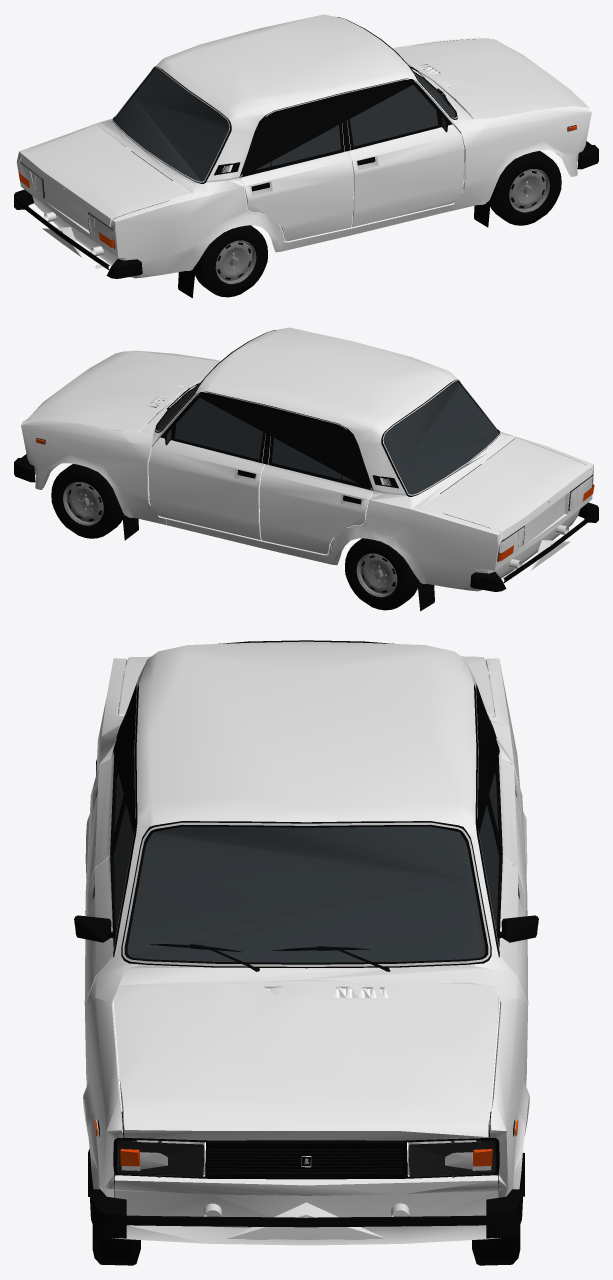
The model's file is vaz2105.obj.
The picture shows the model from 3 angles, top to bottom: view 1: azimuth 30°, elevation 25°; view 2: azimuth 150°, elevation 25°; view 3: azimuth 270°, elevation 25°; orthographic projection. The views are drawn at different scales.
Visible parts, largest first — view 1: vaz2105_05paintPaint, vaz2105_winglassGlass, vaz2105_jigrubber, vaz2105_wheeltire, vaz2105_jigplastic, vaz2105_wheelrim, vaz2105_jigchrome, vaz2105_hlchrome, vaz2105_jigmetallic; view 2: vaz2105_05paintPaint, vaz2105_winglassGlass, vaz2105_jigrubber, vaz2105_wheeltire, vaz2105_jigplastic, vaz2105_wheelrim, vaz2105_jigchrome, vaz2105_hlchrome, vaz2105_jigmetallic; view 3: vaz2105_05paintPaint, vaz2105_winglassGlass, vaz2105_jigplastic, vaz2105_jigrubber, vaz2105_hlplastic, vaz2105_jigchrome, vaz2105_wheeltire, vaz2105_jigmetallic, vaz2105_hlchrome.
Part boxes in pixels (left/top/right/bottom): vaz2105_05paintPaint: left=16, top=14, right=591, bottom=278; vaz2105_winglassGlass: left=114, top=68, right=455, bottom=181; vaz2105_jigrubber: left=112, top=17, right=490, bottom=298; vaz2105_wheeltire: left=114, top=87, right=561, bottom=297; vaz2105_jigplastic: left=14, top=66, right=598, bottom=278; vaz2105_wheelrim: left=215, top=169, right=549, bottom=284; vaz2105_jigchrome: left=63, top=66, right=457, bottom=196; vaz2105_hlchrome: left=20, top=163, right=114, bottom=242; vaz2105_jigmetallic: left=42, top=212, right=111, bottom=268; vaz2105_05paintPaint: left=21, top=327, right=593, bottom=591; vaz2105_winglassGlass: left=157, top=381, right=498, bottom=494; vaz2105_jigrubber: left=122, top=330, right=500, bottom=611; vaz2105_wheeltire: left=51, top=400, right=489, bottom=610; vaz2105_jigplastic: left=14, top=383, right=598, bottom=591; vaz2105_wheelrim: left=63, top=482, right=397, bottom=597; vaz2105_jigchrome: left=155, top=379, right=549, bottom=509; vaz2105_hlchrome: left=499, top=476, right=592, bottom=552; vaz2105_jigmetallic: left=491, top=525, right=570, bottom=570; vaz2105_05paintPaint: left=83, top=641, right=529, bottom=1245; vaz2105_winglassGlass: left=114, top=732, right=498, bottom=962; vaz2105_jigplastic: left=74, top=686, right=538, bottom=1238; vaz2105_jigrubber: left=88, top=640, right=524, bottom=1196; vaz2105_hlplastic: left=97, top=675, right=515, bottom=1177; vaz2105_jigchrome: left=85, top=683, right=527, bottom=1167; vaz2105_wheeltire: left=92, top=951, right=520, bottom=1265; vaz2105_jigmetallic: left=203, top=1202, right=409, bottom=1239; vaz2105_hlchrome: left=96, top=676, right=516, bottom=1175.
Bounding box in the file's own units: 4.13 × 1.43 × 1.7.
Materials: 16 (16 with a texture image).
